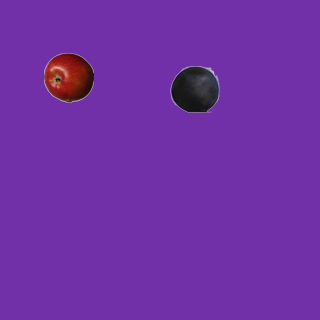Apple Braeburn: (43, 52, 93, 102)
Grape Blue: (169, 63, 219, 113)
